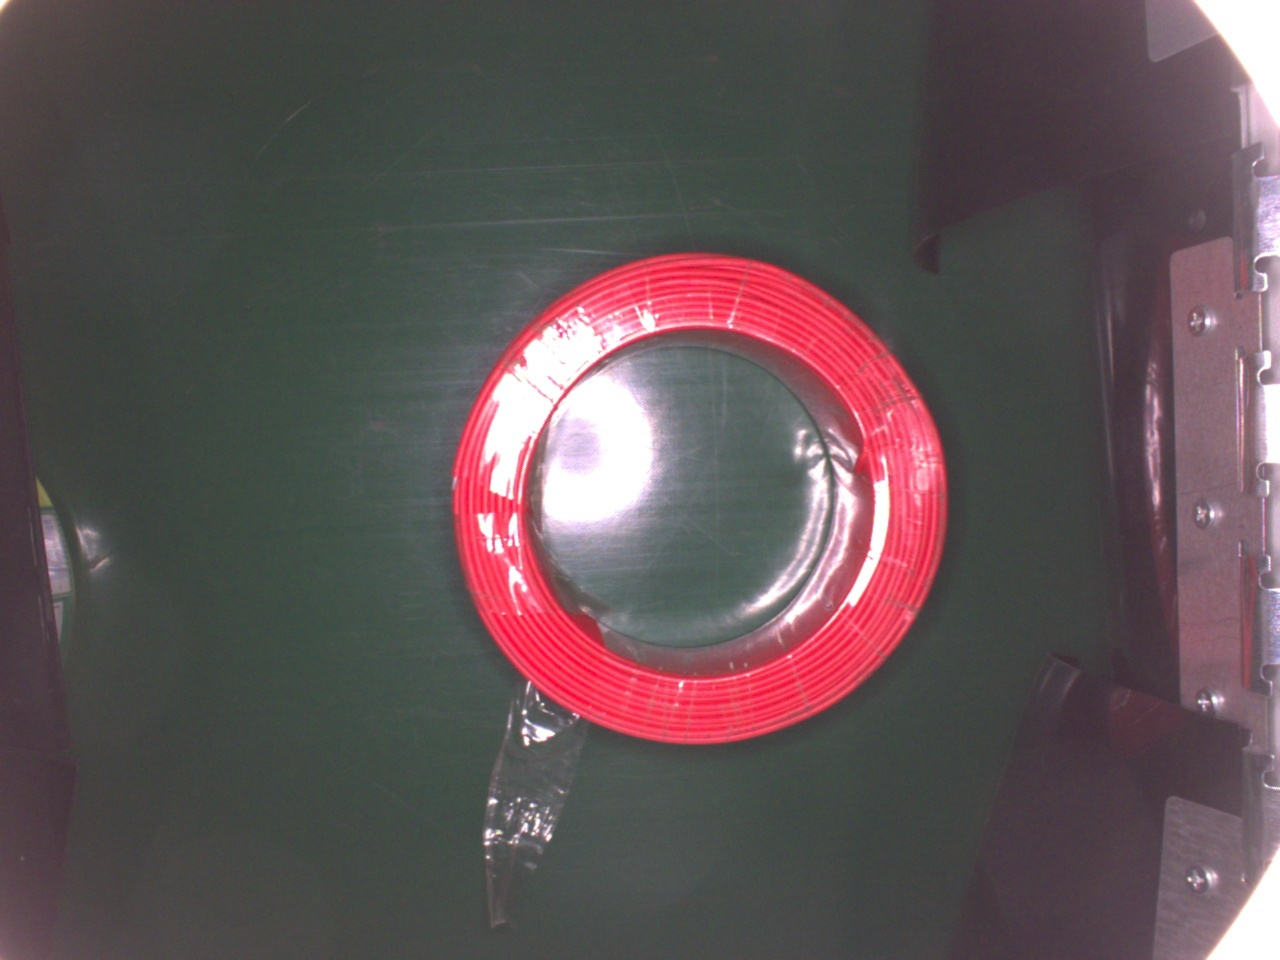red: (443, 248, 954, 749)
